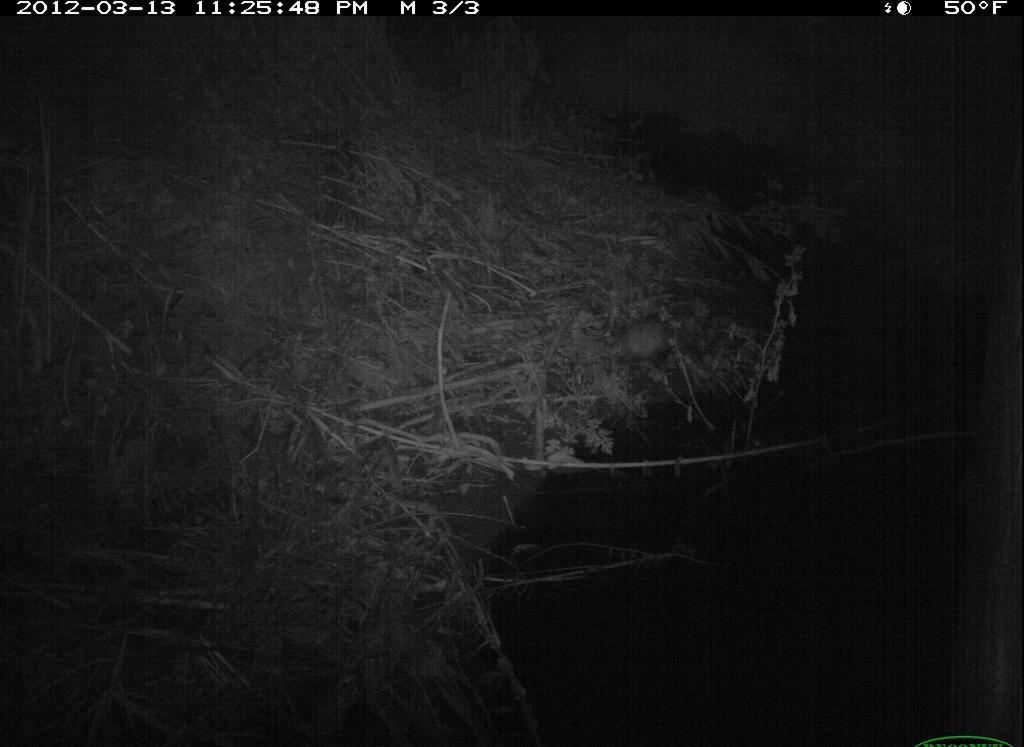opossum: (598, 294, 728, 377)
